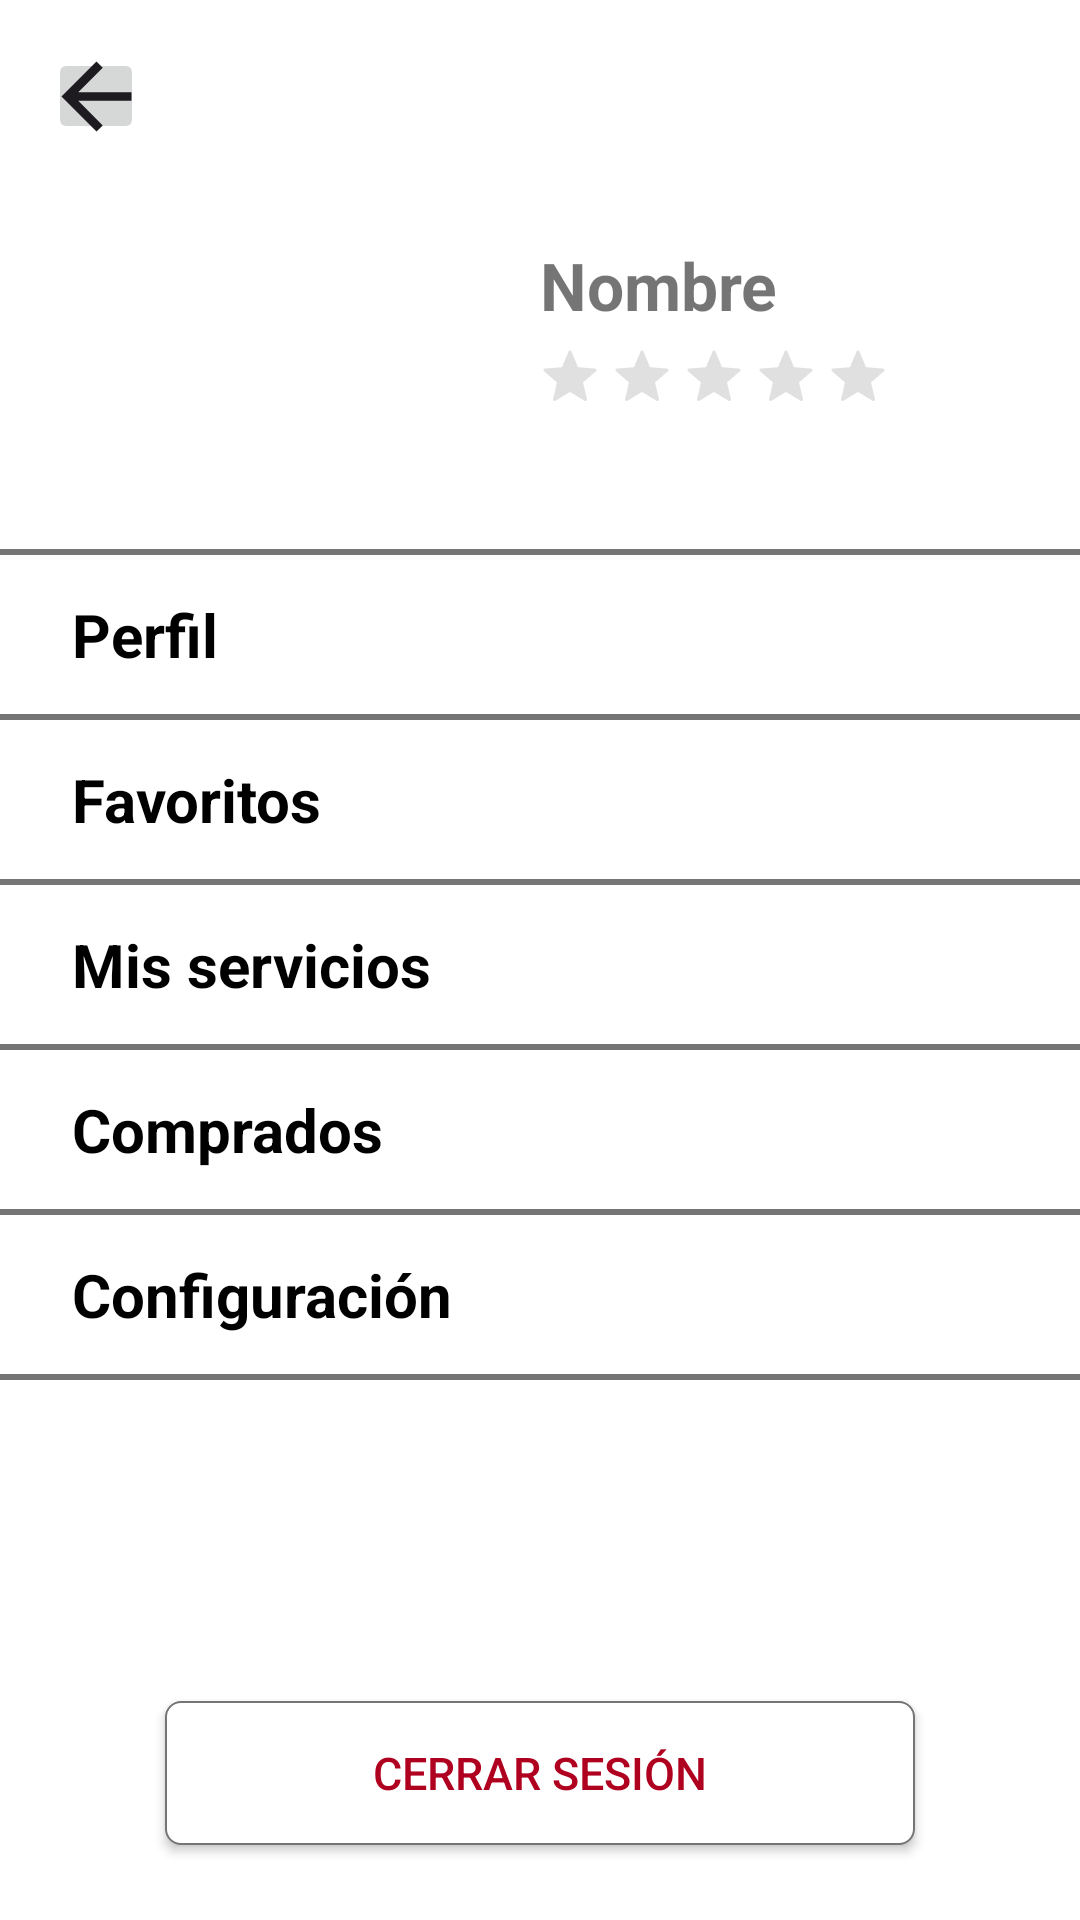

Locate icon controls on the screen. Image size 1080 × 1920, boxes as (x1, y1, x2, y2).
back: (60, 61, 132, 132)
star: (544, 351, 596, 401), (616, 351, 668, 401), (688, 351, 740, 401), (760, 351, 812, 401), (832, 351, 884, 401)
